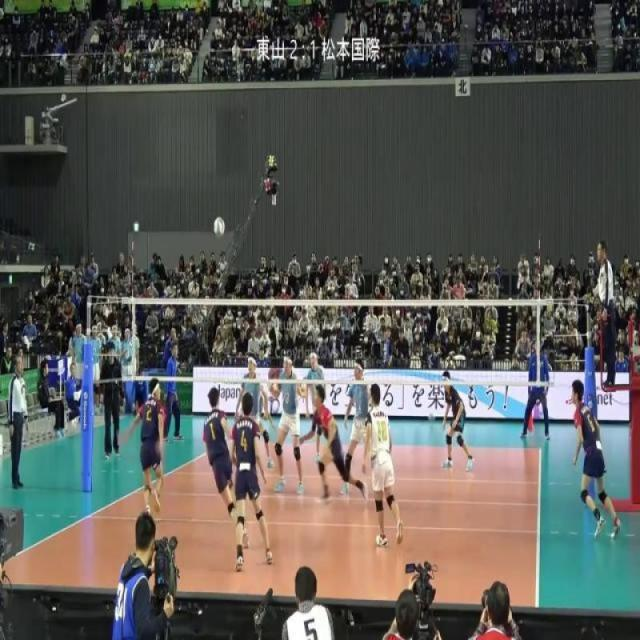volleyball: (213, 216, 225, 239)
